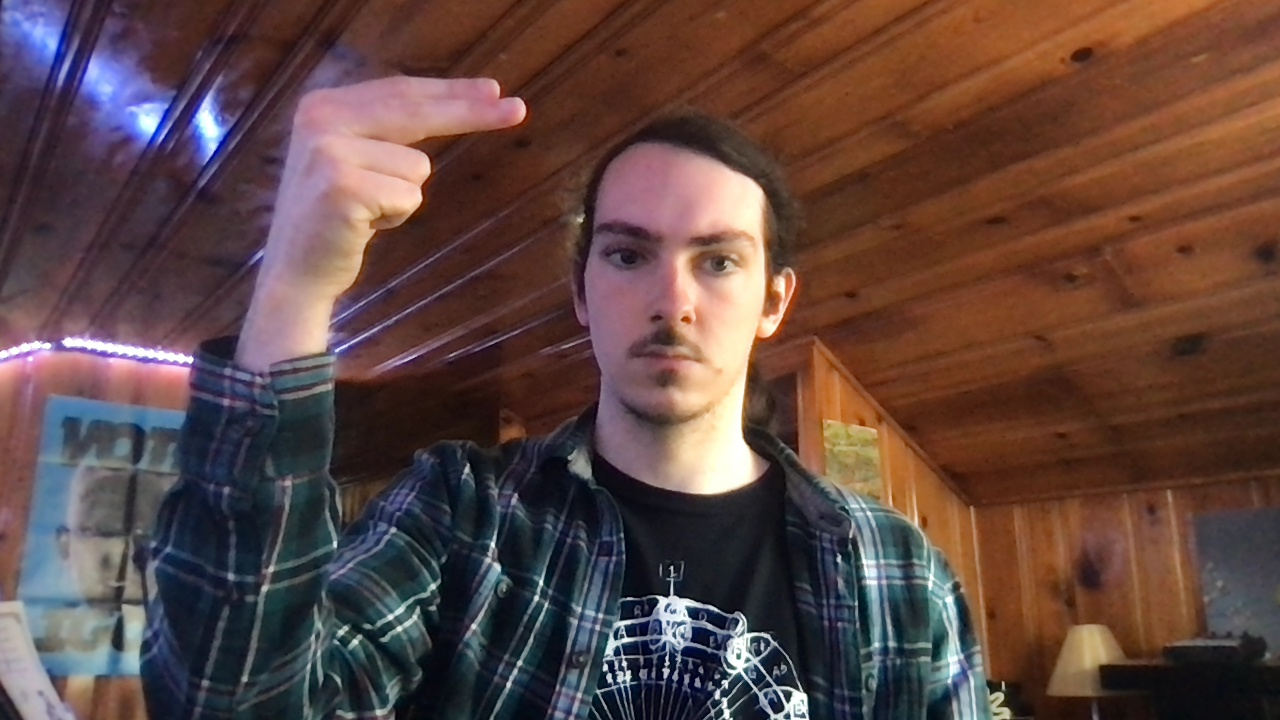h: (265, 74, 528, 300)
